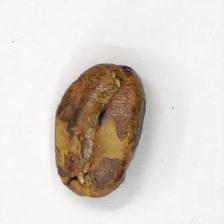NG: (54, 101, 132, 183)
